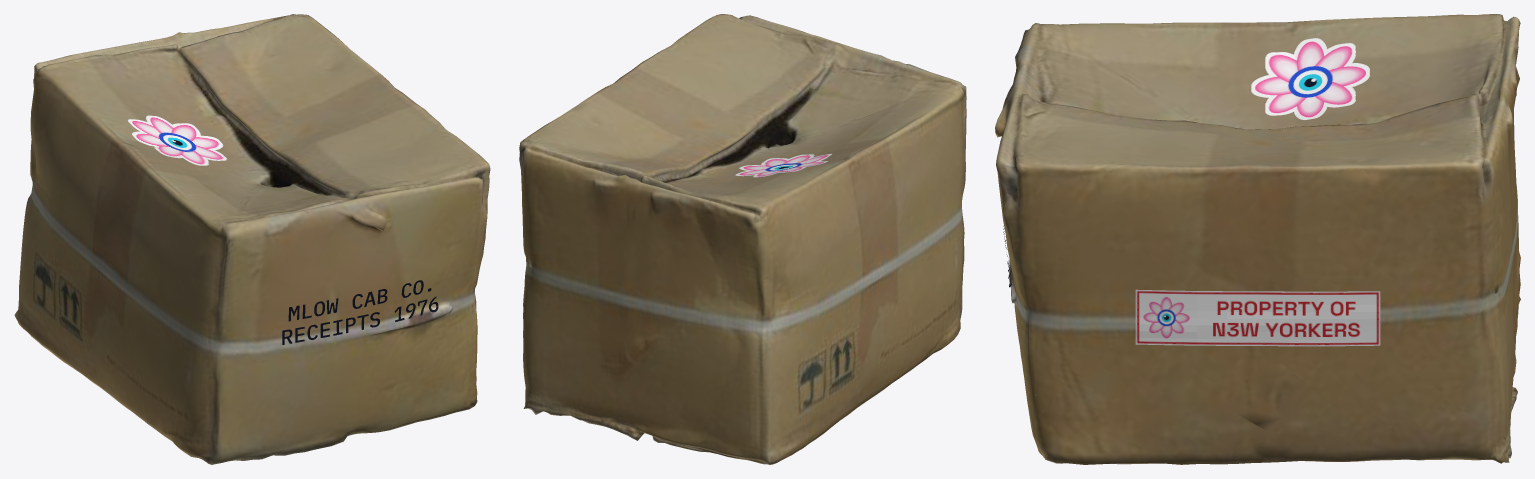
Rendered from nyb_taxi_box.glb.
3 views of the same model, side by side, from view 1: azimuth 30°, elevation 25°; view 2: azimuth 150°, elevation 25°; view 3: azimuth 270°, elevation 25° (orthographic). The views are drawn at different scales.
Parts seen in each view (by area): view 1: cardboard_box_01, stk_eyeflower_die.png, stk_lbl_2857572b93.png; view 2: cardboard_box_01, stk_eyeflower_die.png; view 3: cardboard_box_01, stk_label_property.png, stk_eyeflower_die.png.
Boxes of the visible parts, x1,y1,x2,y2 form: cardboard_box_01: [14, 14, 490, 464]; stk_eyeflower_die.png: [127, 115, 227, 165]; stk_lbl_2857572b93.png: [282, 280, 438, 344]; cardboard_box_01: [519, 14, 966, 464]; stk_eyeflower_die.png: [735, 153, 831, 177]; cardboard_box_01: [995, 14, 1520, 464]; stk_label_property.png: [1135, 289, 1380, 346]; stk_eyeflower_die.png: [1251, 38, 1369, 119].
Size of the model in its own units: 0.3871 by 0.3418 by 0.5159.
Materials: 4 (4 with a texture image).
